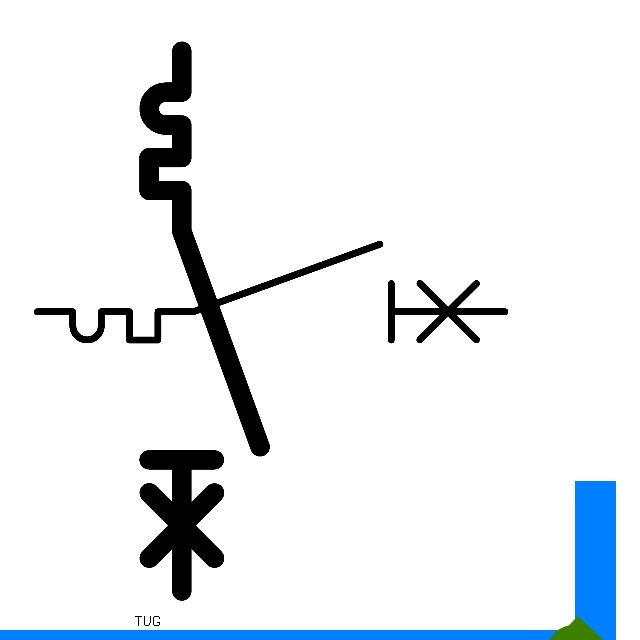interruptor_termomagnetico: (135, 37, 274, 604), (25, 232, 516, 352)
